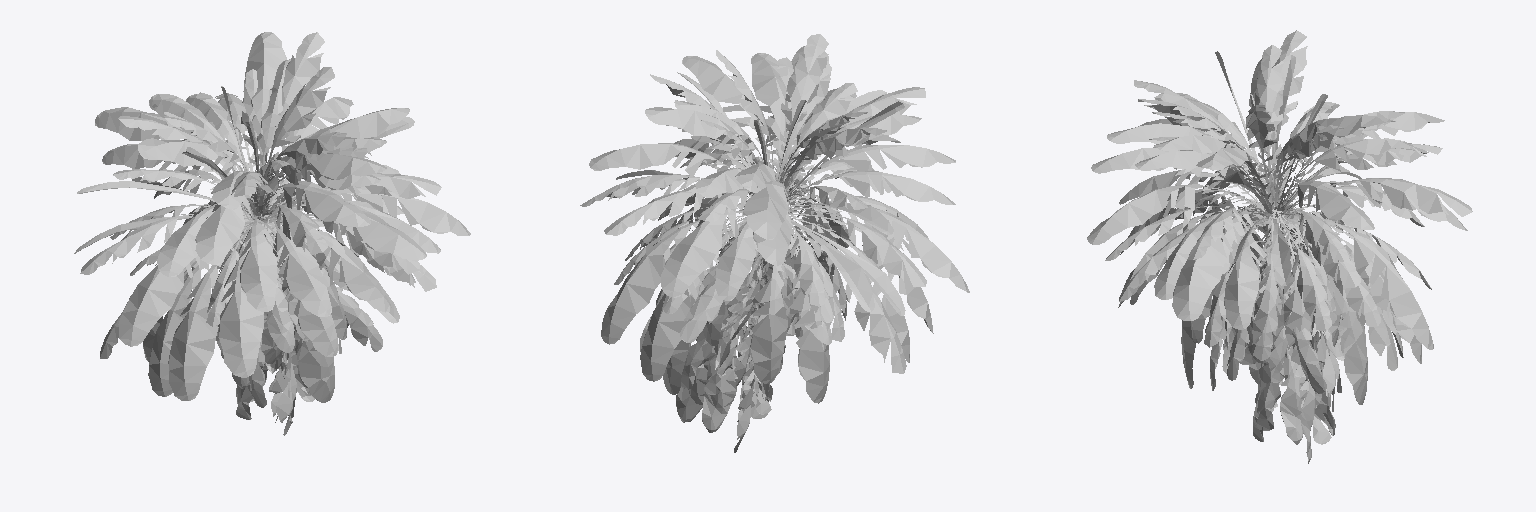
File: leaf5.obj
3 renders of one model, left to right at view 1: azimuth 30°, elevation 25°; view 2: azimuth 150°, elevation 25°; view 3: azimuth 270°, elevation 25°, orthographic.
Visible parts, largest first — view 1: Palm_Tree_M_01_L.003; view 2: Palm_Tree_M_01_L.003; view 3: Palm_Tree_M_01_L.003.
Boxes of the visible parts, <box> form: Palm_Tree_M_01_L.003: <box>74,32,470,435</box>; Palm_Tree_M_01_L.003: <box>580,34,969,452</box>; Palm_Tree_M_01_L.003: <box>1087,30,1472,463</box>.
Size of the model in its own units: 7.83 by 8.13 by 7.79.